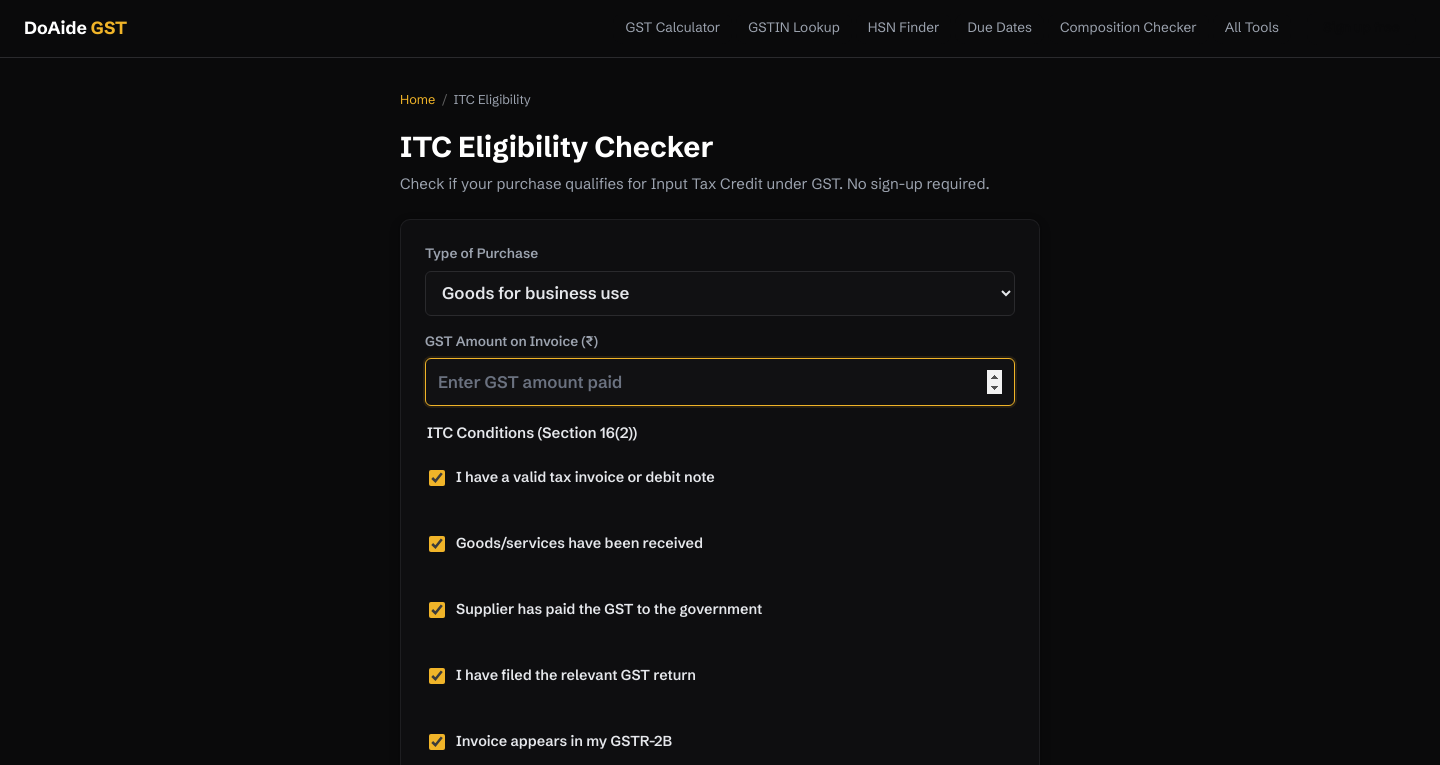
Test: ItcEligibilityPage › shows blocked for motor vehicles with Section 17(5) reason
Select "Motor vehicles (except specified)" in the dropdown labelled "Type of Purchase" at (720, 293), box [425,271,1015,316]
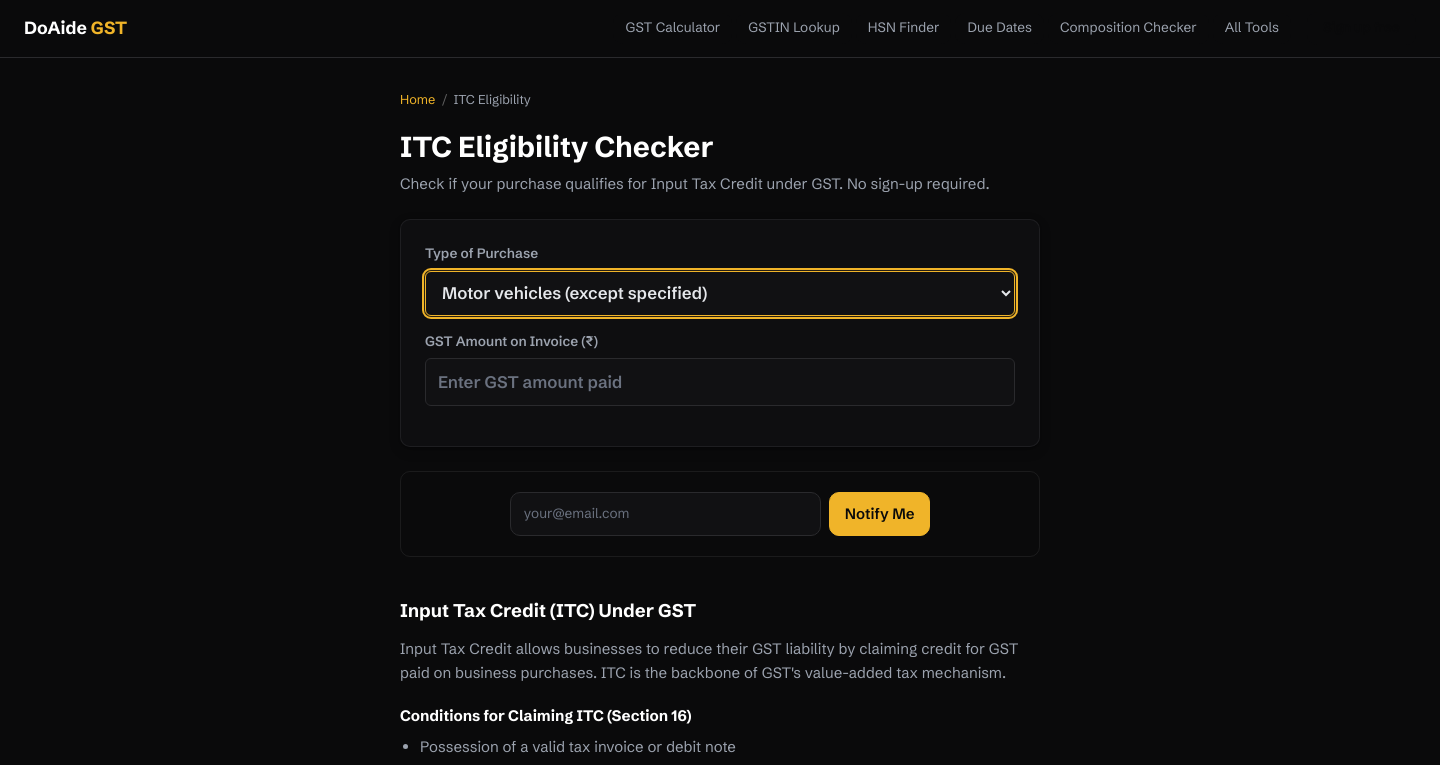
Type "50000" into the number field with placeholder "Enter GST amount paid" at (720, 382), box [425,358,1015,406]
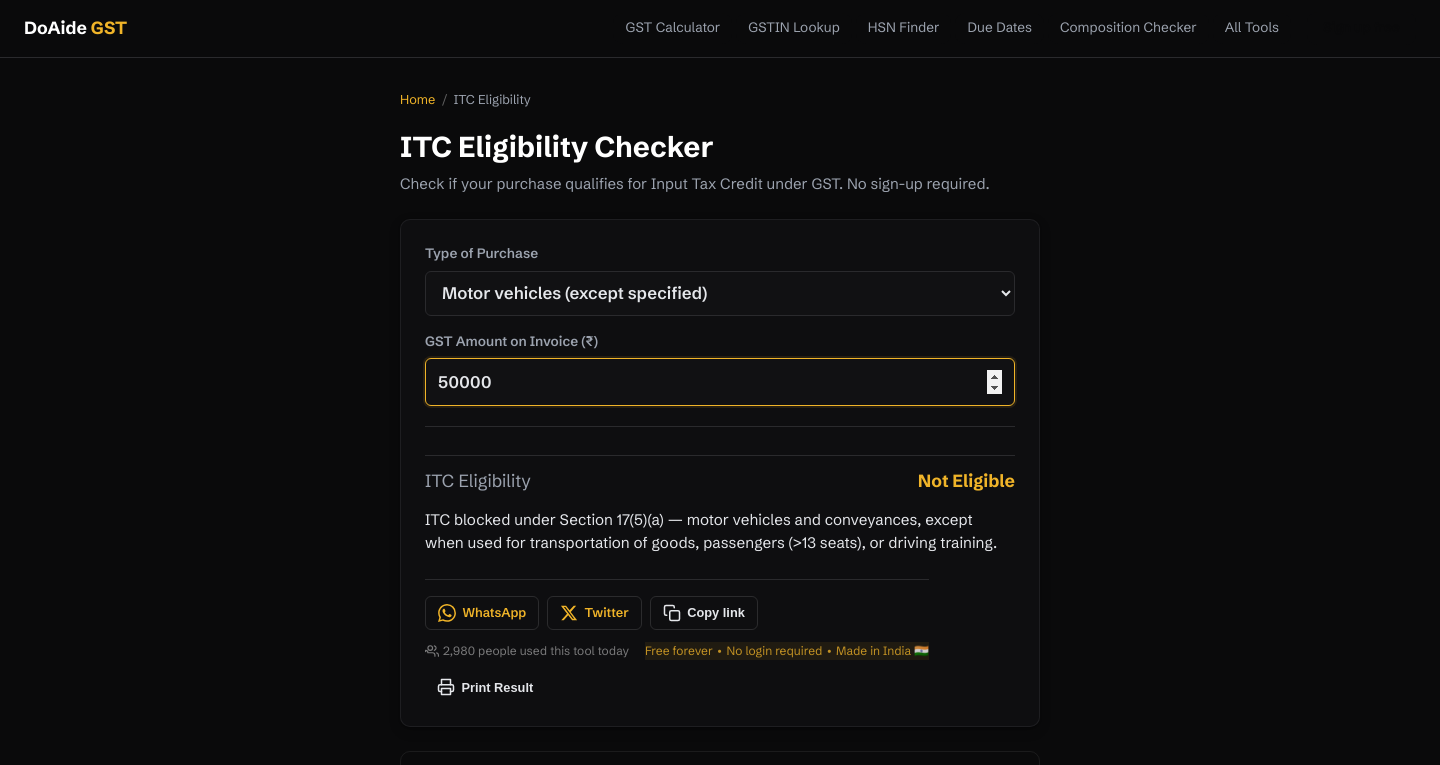
expect the text "Not Eligible" is shown: met, box [918,468,1015,495]
expect the text "ITC blocked under Section 17(5)(a)" is shown: met, box [425,510,997,552]
